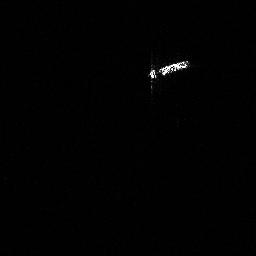ship: (149, 59, 189, 80)
